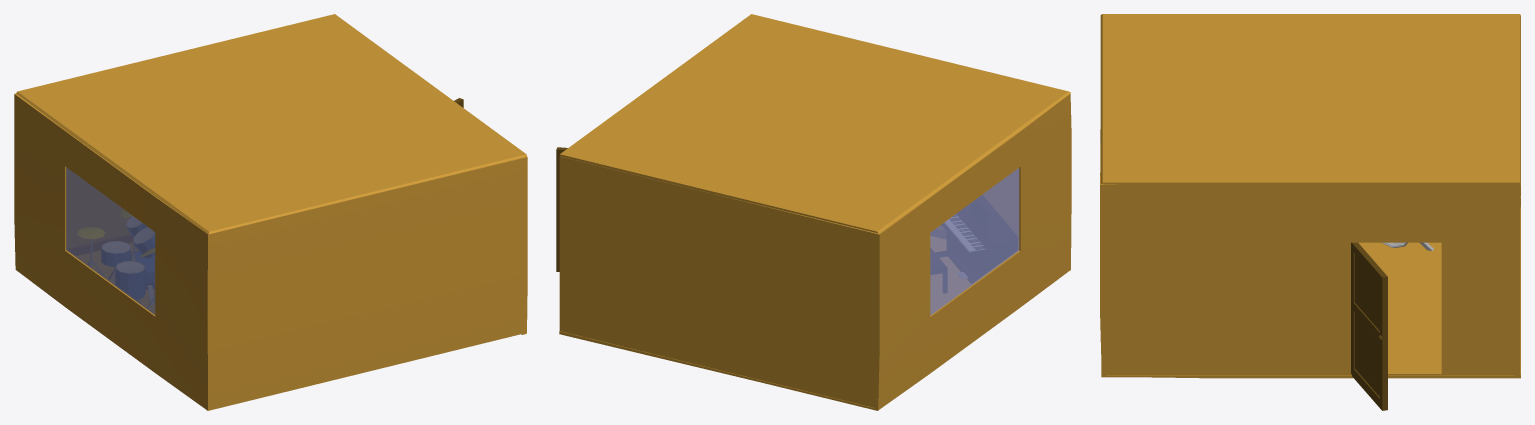
The model's file is MusicClassroom.fbx.
The picture shows the model from 3 angles, left to right: view 1: azimuth 30°, elevation 25°; view 2: azimuth 150°, elevation 25°; view 3: azimuth 270°, elevation 25°; orthographic projection. The views are drawn at different scales.
Parts seen in each view (by area): view 1: polySurface92, polySurface95, polySurface93, pCube55, polySurface157, polySurface132; view 2: polySurface95, pCube55, polySurface92, polySurface93, polySurface96, pSphere2; view 3: polySurface95, pCube56, polySurface92, pSphere2, pCube55.
Boxes of the visible parts, x1,y1,x2,y2 form: polySurface92: (14, 93, 527, 410); polySurface95: (16, 14, 526, 234); polySurface93: (66, 167, 155, 314); pCube55: (68, 169, 132, 255); polySurface157: (116, 261, 144, 299); polySurface132: (102, 241, 130, 266); polySurface95: (560, 14, 1070, 233); pCube55: (559, 156, 877, 410); polySurface92: (559, 93, 1071, 410); polySurface93: (930, 168, 1019, 315); polySurface96: (936, 195, 1017, 283); pSphere2: (556, 147, 567, 271); polySurface95: (1100, 14, 1519, 185); pCube56: (1101, 184, 1516, 377); polySurface92: (1100, 14, 1520, 378); pSphere2: (1351, 242, 1387, 410); pCube55: (1515, 16, 1520, 377).
Size of the model in its own units: 23 by 10.23 by 19.95.
